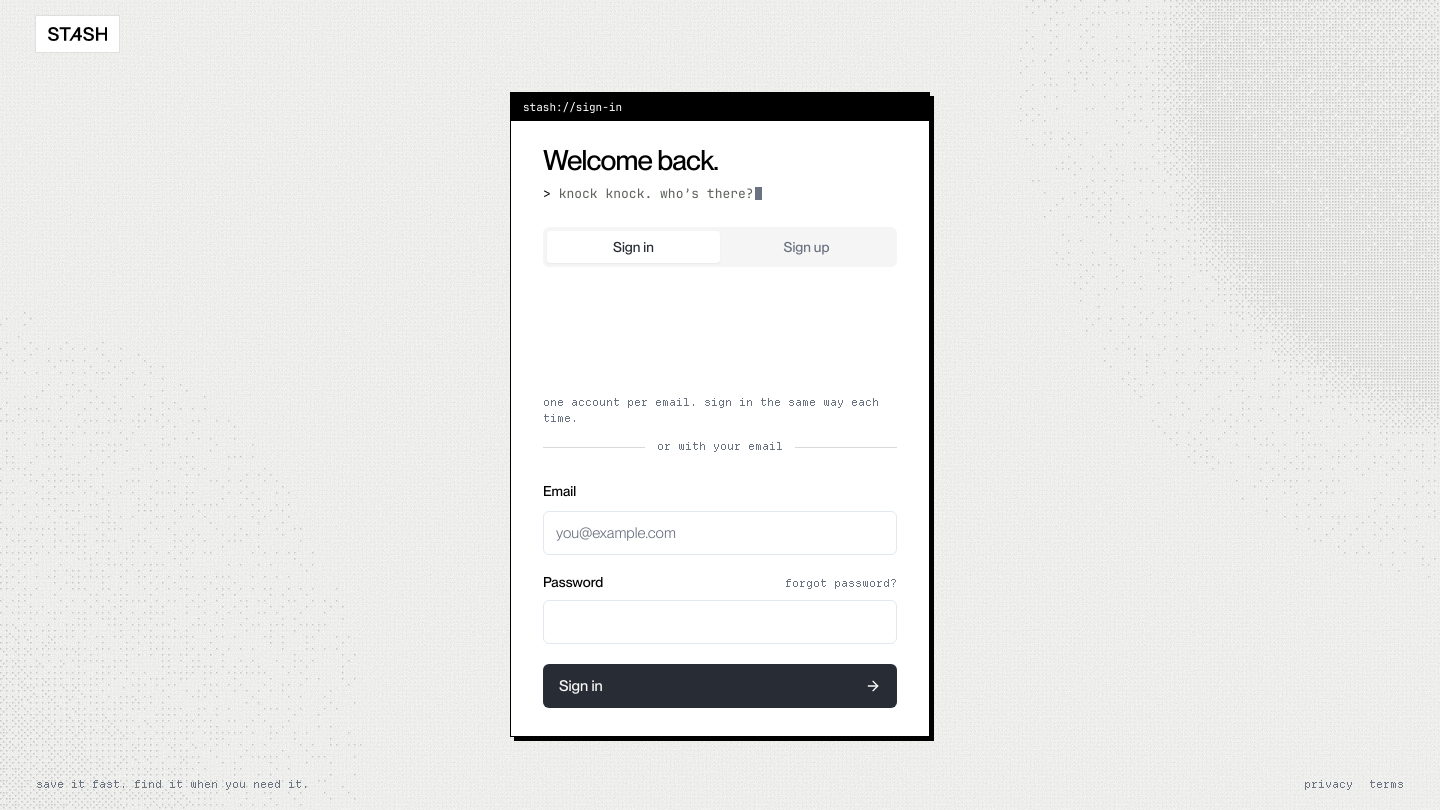
Scenario: Auth — forgot password › opens the reset form from the sign-in tab
Click the button "forgot password?" at (841, 584), box [785,576,897,592]
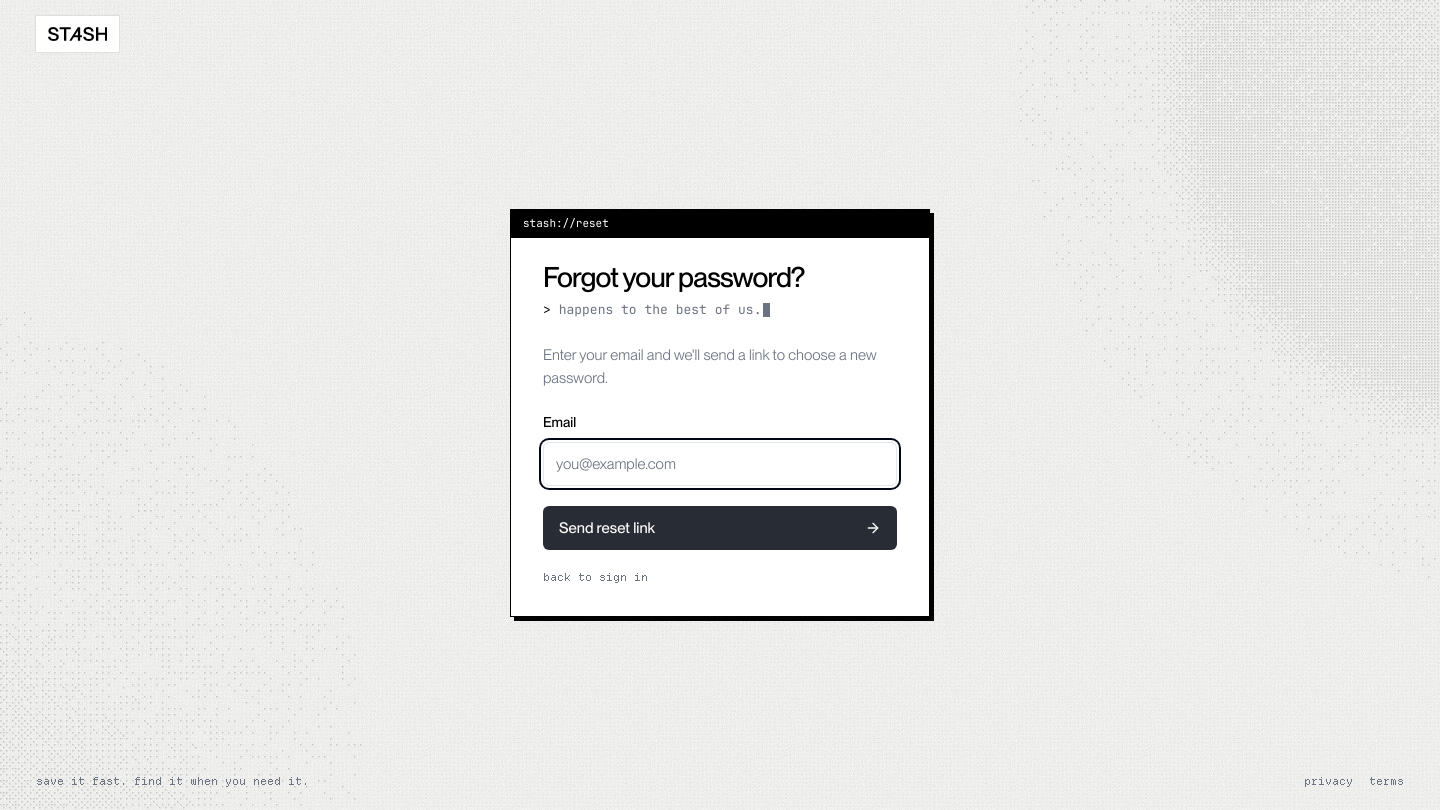
Expected: the button "Send reset link" is shown, [543,506,897,550]
Expected: the tab "Sign up" is gone
